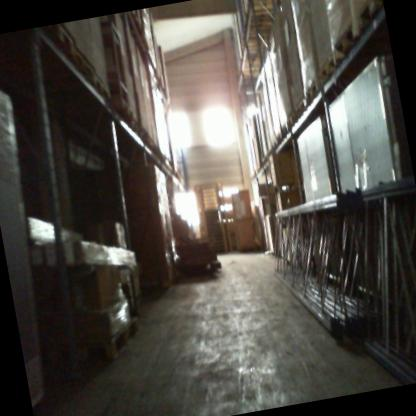pallet: (78, 315, 144, 365), (329, 19, 370, 62), (40, 22, 75, 59), (69, 47, 96, 84), (353, 0, 386, 28), (315, 53, 343, 84), (113, 95, 135, 122), (302, 80, 325, 104), (92, 74, 111, 103), (244, 12, 273, 31), (245, 0, 276, 16), (238, 54, 265, 70), (242, 38, 266, 55), (130, 118, 145, 142), (293, 97, 308, 117), (285, 111, 298, 128), (270, 137, 279, 151), (266, 147, 274, 156), (260, 156, 267, 165), (256, 166, 261, 172)
